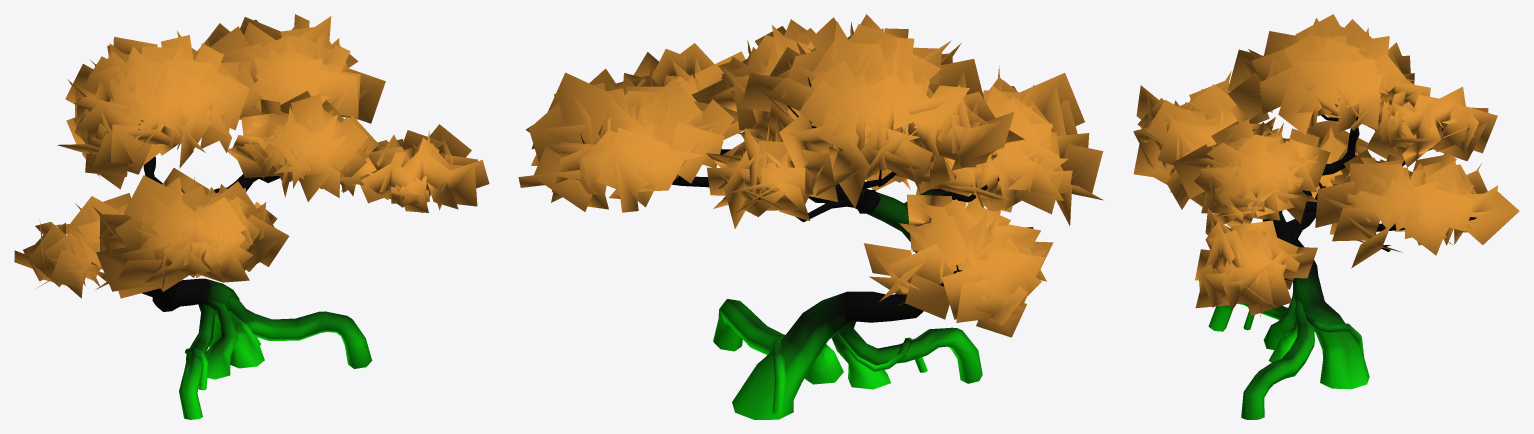
File: SM_RedMaple04.fbx
The picture shows the model from 3 angles, left to right: view 1: azimuth 30°, elevation 25°; view 2: azimuth 150°, elevation 25°; view 3: azimuth 270°, elevation 25°; orthographic projection. The views are drawn at different scales.
Parts seen in each view (by area): view 1: SM_RedMaple04_LOD0; view 2: SM_RedMaple04_LOD0; view 3: SM_RedMaple04_LOD0.
Part boxes in pixels (left/top/right/bottom): SM_RedMaple04_LOD0: left=14, top=14, right=489, bottom=419; SM_RedMaple04_LOD0: left=518, top=14, right=1103, bottom=419; SM_RedMaple04_LOD0: left=1133, top=14, right=1519, bottom=419.
Size of what is drawn, in the model's own units: 3659 by 2864 by 3145.
